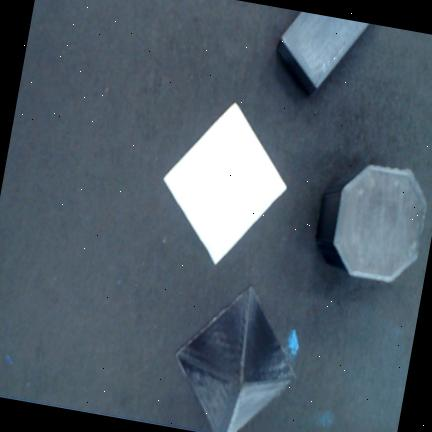Paralelepipedo: (275, 12, 369, 93)
Piramide: (162, 101, 288, 266), (176, 286, 294, 432)
Prisma_hexagonal: (317, 165, 427, 283)
